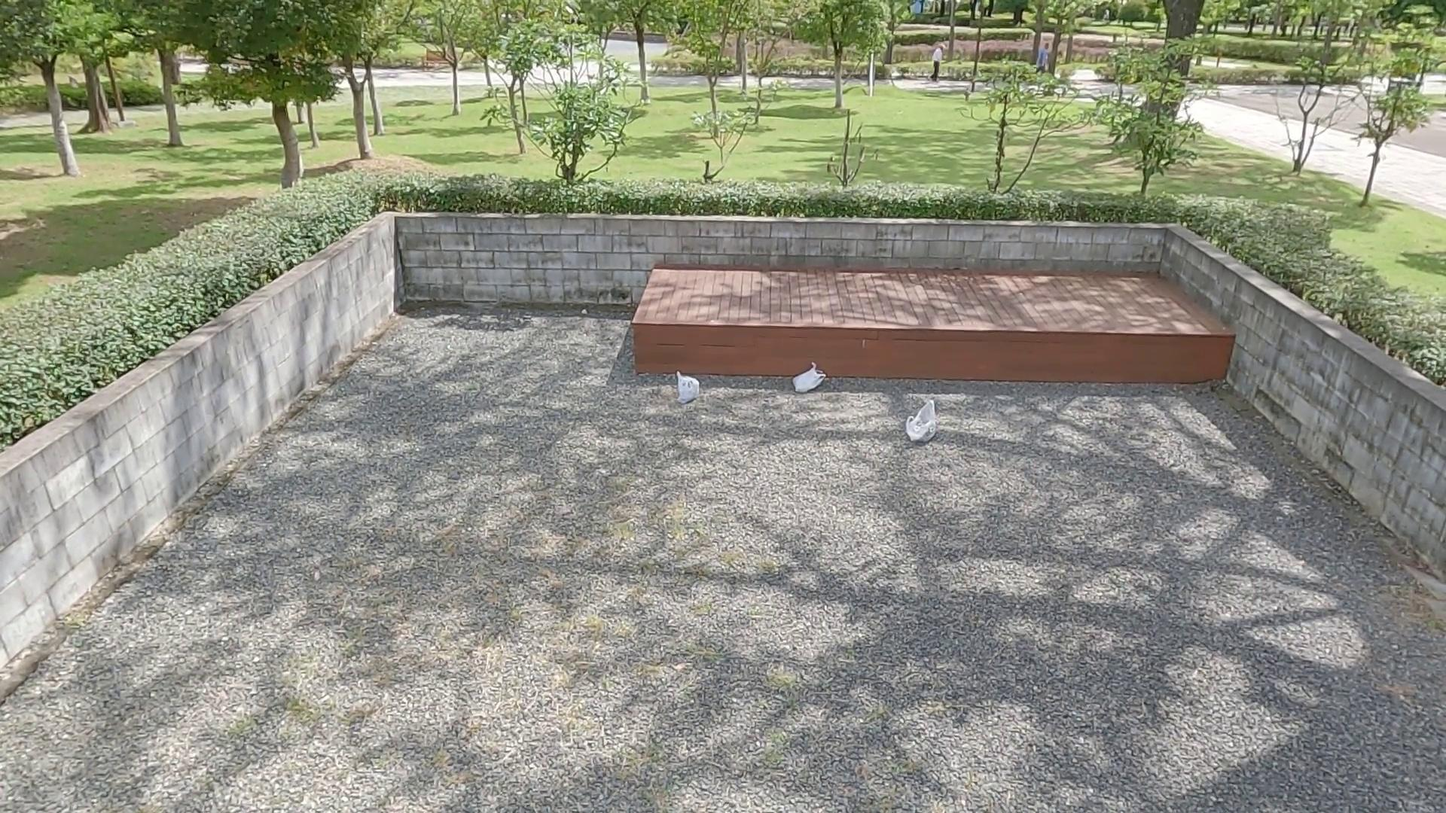person: (930, 43, 946, 83)
trash: (905, 400, 938, 446), (791, 362, 827, 395), (673, 370, 701, 404)
